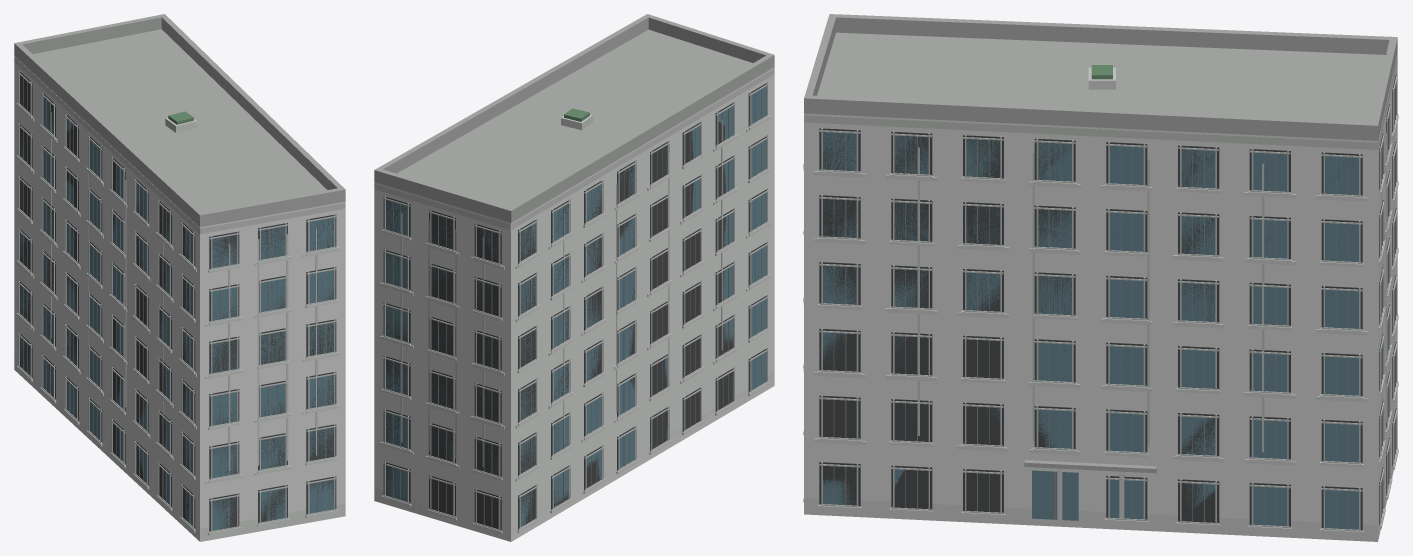
Rendered from cop_hotel_contemporaneo_03__way_1048277507.fbx.
3 views of the same model, side by side, from view 1: azimuth 30°, elevation 25°; view 2: azimuth 150°, elevation 25°; view 3: azimuth 270°, elevation 25° (orthographic). The views are drawn at different scales.
Visible parts, largest first — view 1: cop_hotel_contemporaneo_03__way_1048277507_wall, cop_hotel_contemporaneo_03__way_1048277507_roof, cop_hotel_contemporaneo_03__way_1048277507_glass, cop_hotel_contemporaneo_03__way_1048277507_shadow, cop_hotel_contemporaneo_03__way_1048277507_trim, cop_hotel_contemporaneo_03__way_1048277507_stone, cop_hotel_contemporaneo_03__way_1048277507_metal; view 2: cop_hotel_contemporaneo_03__way_1048277507_wall, cop_hotel_contemporaneo_03__way_1048277507_roof, cop_hotel_contemporaneo_03__way_1048277507_shadow, cop_hotel_contemporaneo_03__way_1048277507_trim, cop_hotel_contemporaneo_03__way_1048277507_glass, cop_hotel_contemporaneo_03__way_1048277507_stone, cop_hotel_contemporaneo_03__way_1048277507_metal; view 3: cop_hotel_contemporaneo_03__way_1048277507_wall, cop_hotel_contemporaneo_03__way_1048277507_roof, cop_hotel_contemporaneo_03__way_1048277507_glass, cop_hotel_contemporaneo_03__way_1048277507_shadow, cop_hotel_contemporaneo_03__way_1048277507_trim, cop_hotel_contemporaneo_03__way_1048277507_stone, cop_hotel_contemporaneo_03__way_1048277507_metal.
Boxes of the visible parts, <box> form: cop_hotel_contemporaneo_03__way_1048277507_wall: <box>14,55,345,541</box>; cop_hotel_contemporaneo_03__way_1048277507_roof: <box>14,14,345,227</box>; cop_hotel_contemporaneo_03__way_1048277507_glass: <box>20,77,333,530</box>; cop_hotel_contemporaneo_03__way_1048277507_shadow: <box>19,71,336,531</box>; cop_hotel_contemporaneo_03__way_1048277507_trim: <box>14,57,345,532</box>; cop_hotel_contemporaneo_03__way_1048277507_stone: <box>14,103,345,541</box>; cop_hotel_contemporaneo_03__way_1048277507_metal: <box>23,78,326,529</box>; cop_hotel_contemporaneo_03__way_1048277507_wall: <box>374,67,774,541</box>; cop_hotel_contemporaneo_03__way_1048277507_roof: <box>374,14,774,222</box>; cop_hotel_contemporaneo_03__way_1048277507_shadow: <box>383,82,767,530</box>; cop_hotel_contemporaneo_03__way_1048277507_trim: <box>374,68,774,531</box>; cop_hotel_contemporaneo_03__way_1048277507_glass: <box>386,86,766,526</box>; cop_hotel_contemporaneo_03__way_1048277507_stone: <box>374,114,774,540</box>; cop_hotel_contemporaneo_03__way_1048277507_metal: <box>392,89,761,527</box>; cop_hotel_contemporaneo_03__way_1048277507_wall: <box>804,53,1397,541</box>; cop_hotel_contemporaneo_03__way_1048277507_roof: <box>804,14,1397,473</box>; cop_hotel_contemporaneo_03__way_1048277507_glass: <box>823,132,1396,529</box>; cop_hotel_contemporaneo_03__way_1048277507_shadow: <box>819,74,1396,530</box>; cop_hotel_contemporaneo_03__way_1048277507_trim: <box>804,54,1397,531</box>; cop_hotel_contemporaneo_03__way_1048277507_stone: <box>803,67,1398,541</box>; cop_hotel_contemporaneo_03__way_1048277507_metal: <box>833,84,1395,529</box>.
Bounding box in the file's own units: 1084 × 1869 × 2423.
